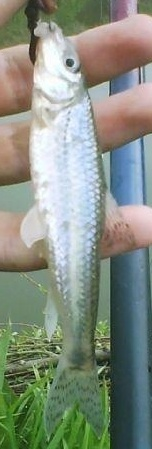Gobio gobio: (20, 20, 132, 441)
